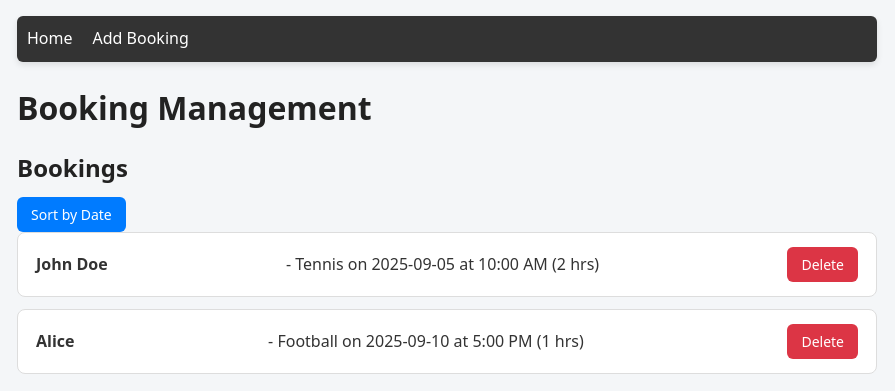
Test: Booking Management App Tests › deletes a booking
This screenshot has width=895, height=391.
Expected: the text "John Doe" is shown, [36,252,108,278]
Click the button "Delete" in the row of "John Doe" at (823, 265), box [787,247,858,282]
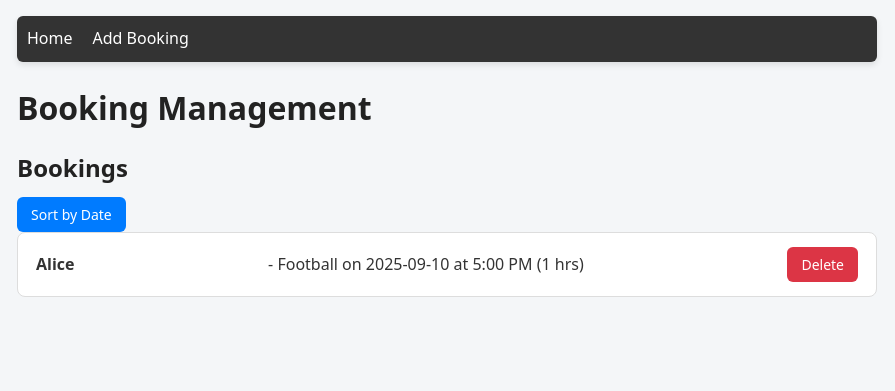
Now the text "John Doe" is gone
